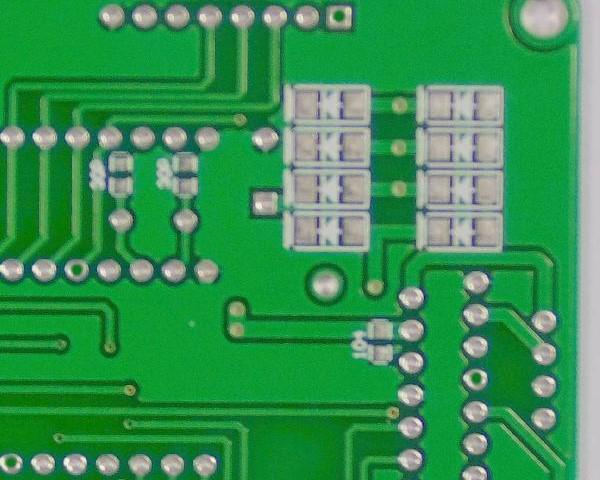missing hole: (322, 2, 359, 33), (62, 254, 91, 288), (460, 365, 491, 393), (1, 449, 24, 476)
